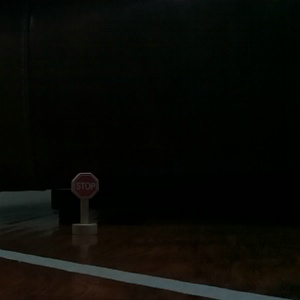stop sign: (68, 170, 100, 237)
